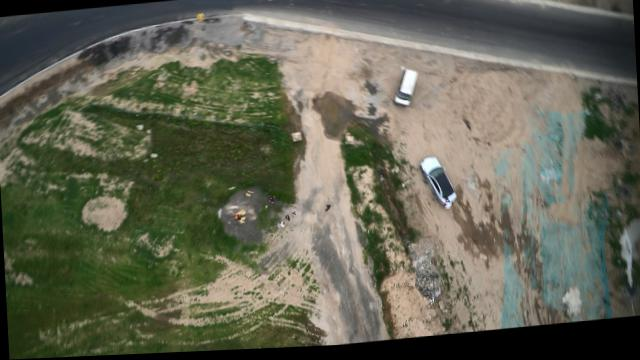fire: (226, 204, 254, 227)
